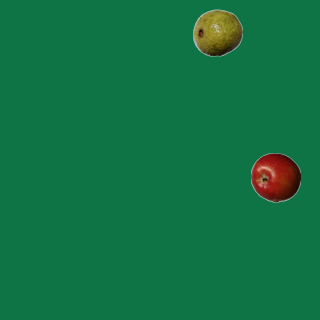Apple Braeburn: (250, 152, 300, 202)
Guava: (192, 7, 242, 57)
